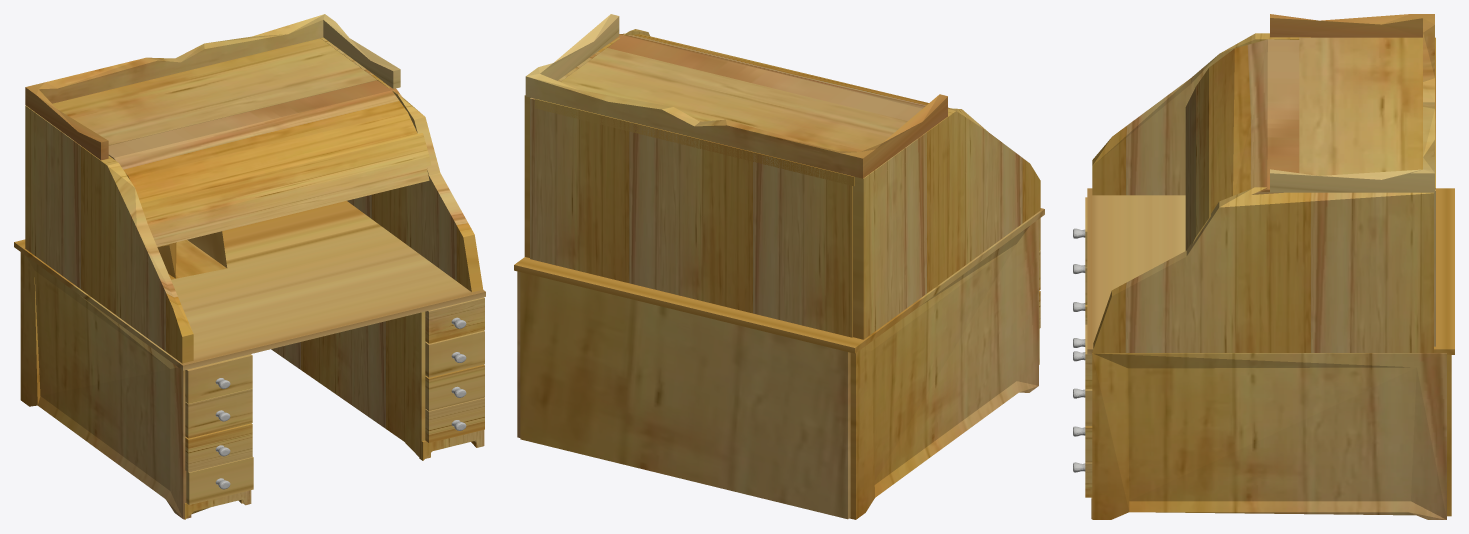
File: sh-contrib-secretarys-desk.glb
The picture shows the model from 3 angles, left to right: view 1: azimuth 30°, elevation 25°; view 2: azimuth 150°, elevation 25°; view 3: azimuth 270°, elevation 25°; orthographic projection. The views are drawn at different scales.
Visible parts, largest first — view 1: front, knob; view 2: front; view 3: front, knob.
Boxes of the visible parts, box(x1,y1,x2,y2) form: front: box(14, 14, 485, 519); knob: box(215, 317, 466, 489); front: box(514, 14, 1044, 519); front: box(1085, 14, 1454, 519); knob: box(1073, 228, 1085, 472).
Bounding box in the file's own units: 1 × 1 × 1.
Materials: 2 (1 with a texture image).
